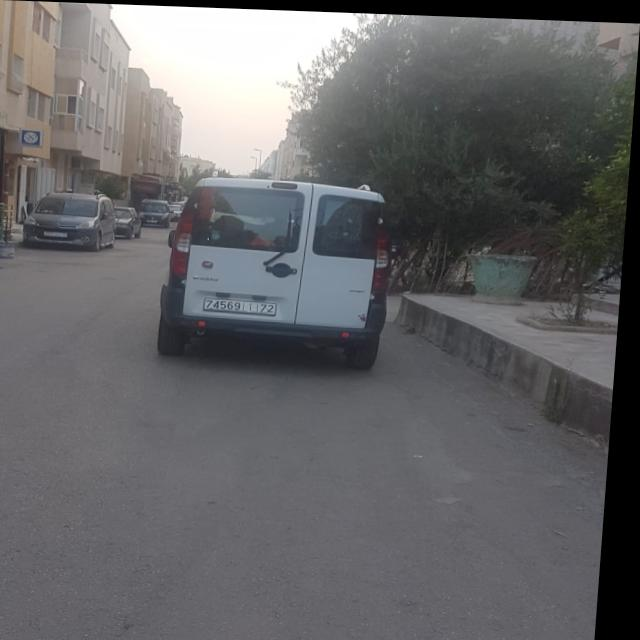License-Plate: (207, 297, 280, 313)
